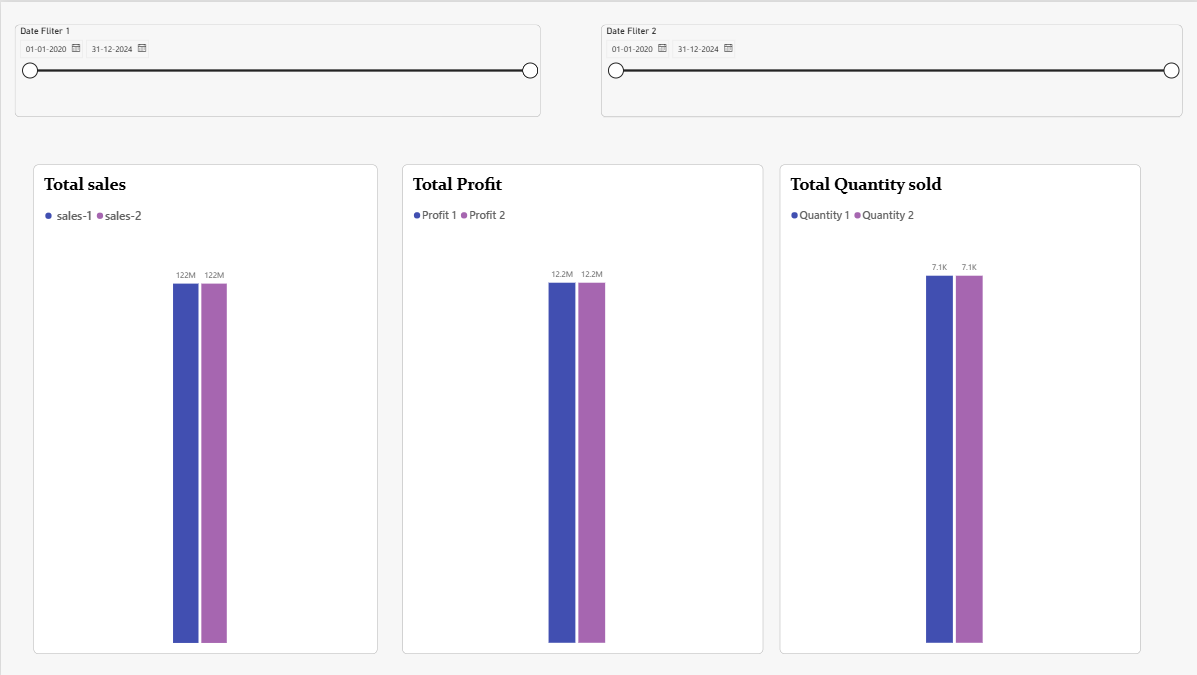

What the dashboard file says about the page in this screenshot:
{"tool":"powerbi","page":{"name":"comparison sales/Profit/Quantity","canvas":[1920,1080],"ordinal":2},"visuals":[{"type":"slicer","fields":{"Values":["Date Table 1.Date"]},"box":[21.7,36.2,841.5,148.4],"z":0},{"type":"slicer","fields":{"Values":["Date Table 2.Date"]},"box":[960,36,930,148],"z":1000},{"type":"clusteredColumnChart","title":"Total sales ","fields":{"Y":["Sum(Fact table.Net sales)","Date Table 1.Sum of Net sales"]},"box":[52.5,260.6,550.1,783.6],"z":2000},{"type":"clusteredColumnChart","title":"Total Profit","fields":{"Y":["Sum(Fact table.Profit)","Measure Table.Total Profit"]},"box":[642.4,260.6,577.3,783.6],"z":3000},{"type":"clusteredColumnChart","title":"Total Quantity sold","fields":{"Y":["Sum(Fact table.Units Sold)","Measure Table.quantity sold"]},"box":[1246.9,260.6,577.3,783.6],"z":4000}]}

Visuals, with their boxes in screenshot pixels (x1, y1, x2, y2), scaled from the page's 1920x1080 canvas onto the 1197x675 screenshot:
slicer - Date Table 1.Date: {"left": 14, "top": 23, "right": 538, "bottom": 115}
slicer - Date Table 2.Date: {"left": 598, "top": 22, "right": 1178, "bottom": 115}
"Total sales " clusteredColumnChart: {"left": 33, "top": 163, "right": 376, "bottom": 653}
"Total Profit" clusteredColumnChart: {"left": 400, "top": 163, "right": 760, "bottom": 653}
"Total Quantity sold" clusteredColumnChart: {"left": 777, "top": 163, "right": 1137, "bottom": 653}
